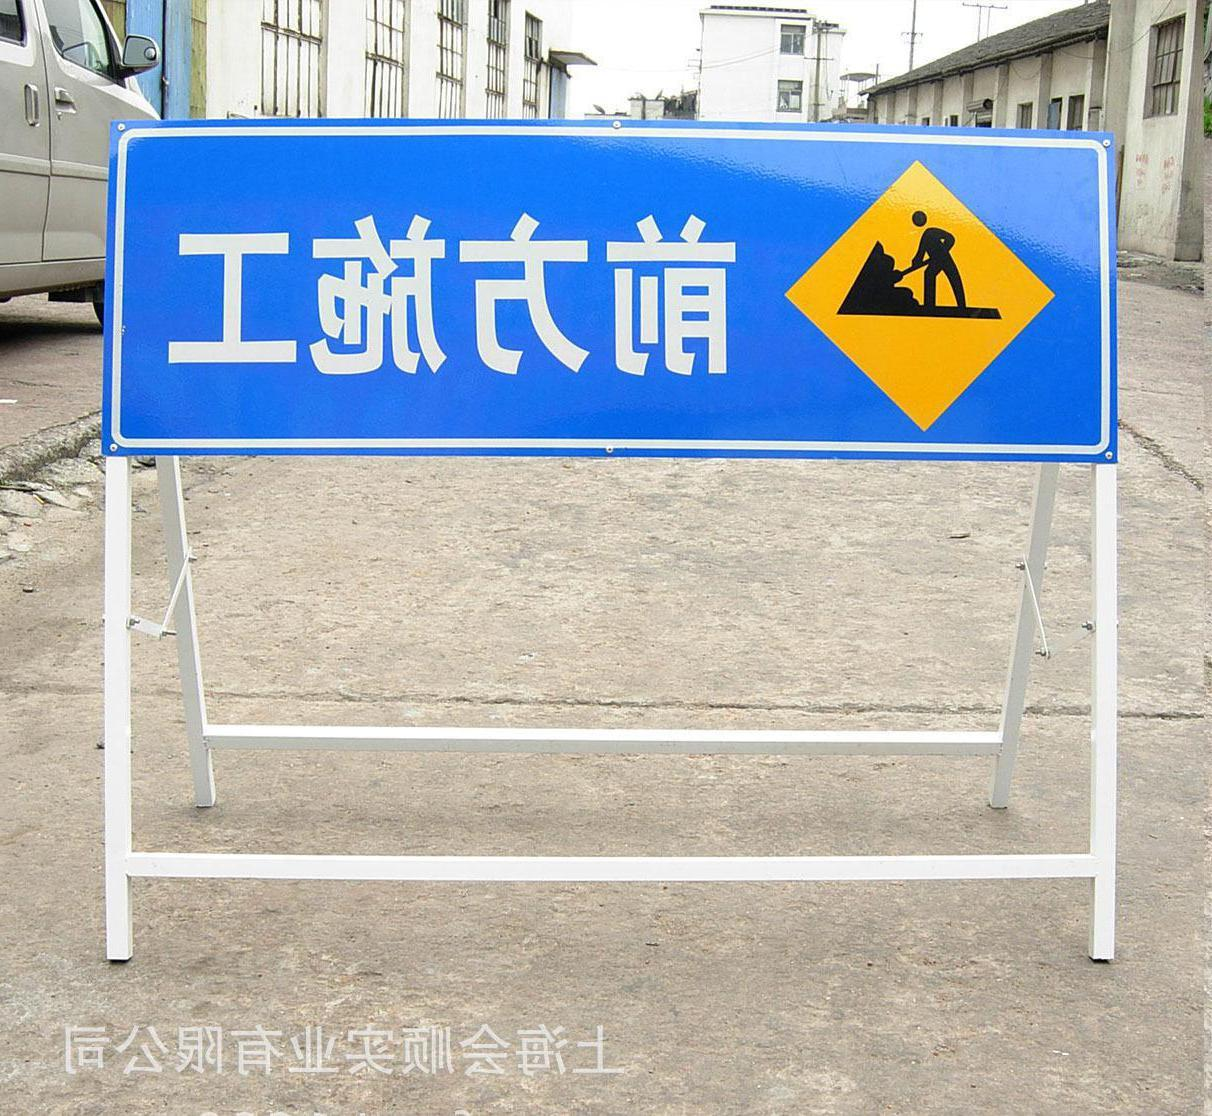sign: (111, 127, 1110, 456)
